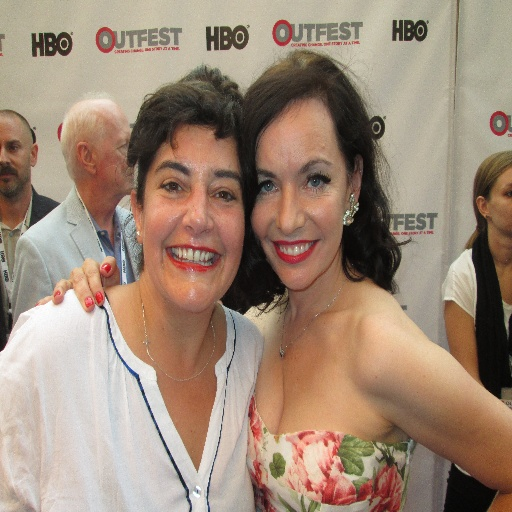hand: (36, 250, 114, 323)
